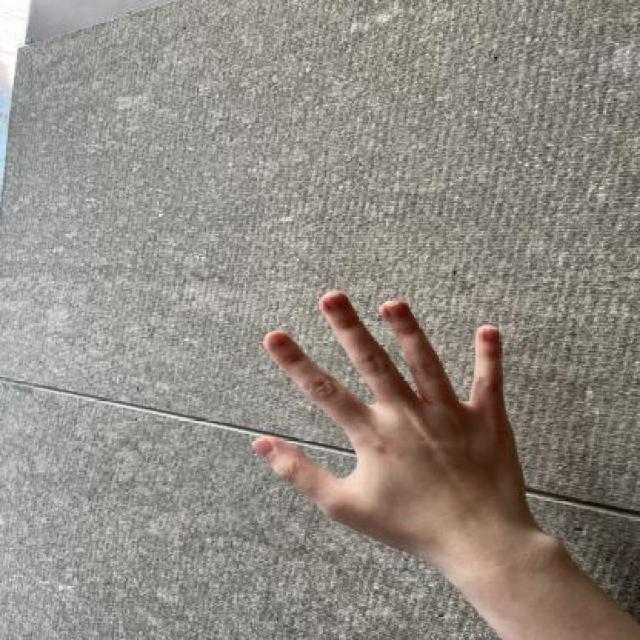hand: (235, 278, 536, 566)
